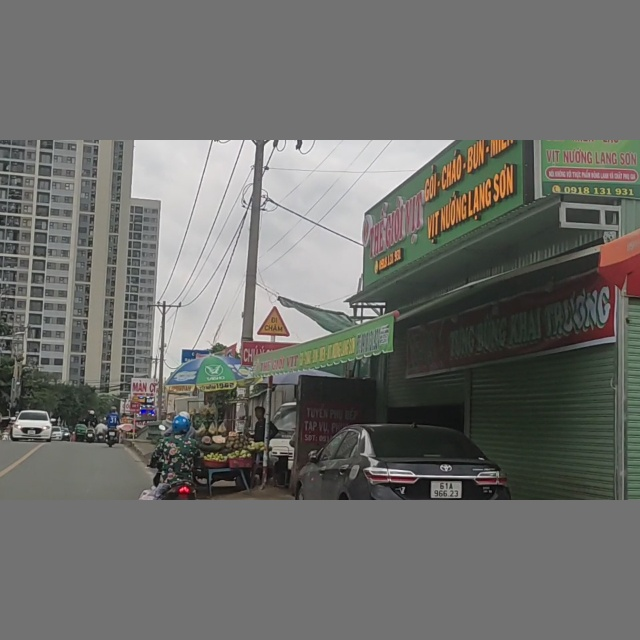W.245a: (258, 306, 289, 336)
